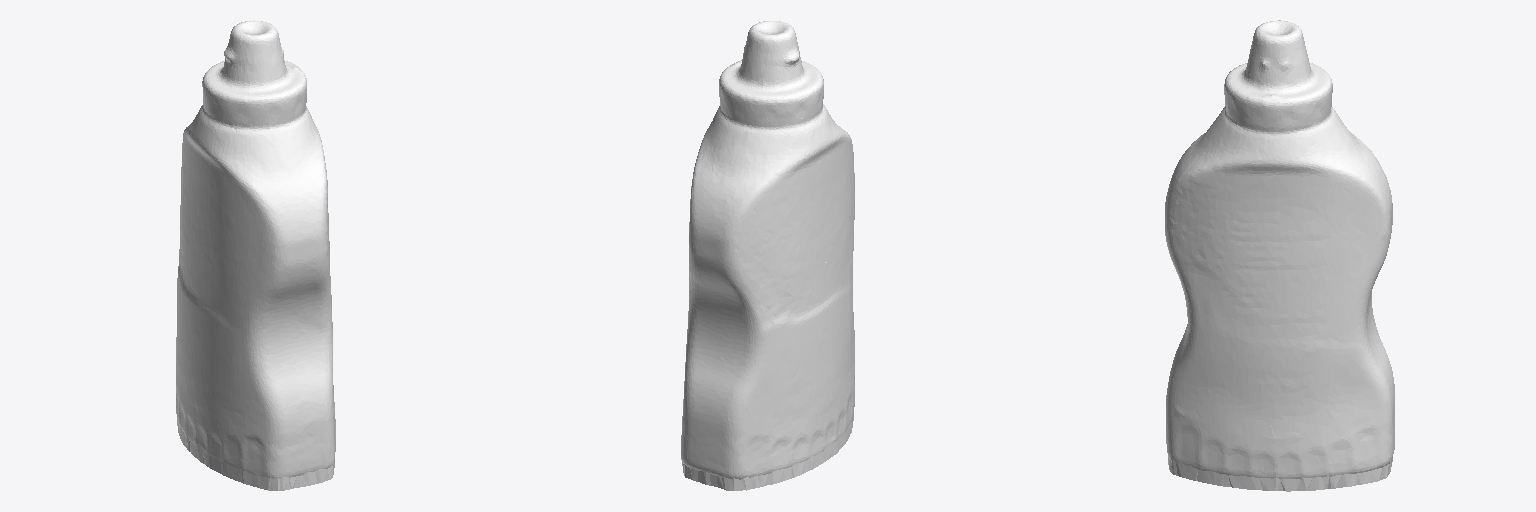
The robot description file, URDF, robot "36_mustard_0":
<?xml version='1.0' encoding='utf-8'?>
<robot name="36_mustard_0">
        <link name="link_0">
            <visual>
                <origin xyz="0.0 0.0 0.0" rpy="0.0 0.0 0.0" />
                <geometry>
                    <mesh filename="textured_objs/textured.obj" scale="1 1 1.0" />
                </geometry>
                <material name="white">
                    <color rgba="1 1 1 1" />
                </material>
            </visual>
            <collision>
                <origin xyz="0.0 0.0 0.0" rpy="0.0 0.0 0.0" />
                <geometry>
                    <mesh filename="textured_objs/textured.obj" scale="1 1 1.0" />
                </geometry>
            </collision>
            <inertial>
                <mass value="0.1" />
                <inertia ixx="0.0001" ixy="0.0" ixz="0.0" iyy="0.0001" iyz="0.0" izz="0.0001" />
            </inertial>
        </link>
    </robot>

--- What the picture shows (computed from the rendered views, not written in the file) ---
The picture shows the robot from 3 angles, left to right: view 1: azimuth 30°, elevation 25°; view 2: azimuth 150°, elevation 25°; view 3: azimuth 270°, elevation 25°; orthographic projection.
Model 36_mustard_0 with 1 links and 0 joints (none), rooted at link_0, posed every joint at zero.
Visible links, largest first — view 1: link_0; view 2: link_0; view 3: link_0.
Boxes of the visible links, x1,y1,x2,y2 form: link_0: (176,20,335,490); link_0: (681,21,854,490); link_0: (1165,20,1394,491).
Size in the robot's own frame: 0.0524 by 0.0857 by 0.1773 metres.
1 mesh visuals loaded from 1 distinct referenced files (1 OBJ).